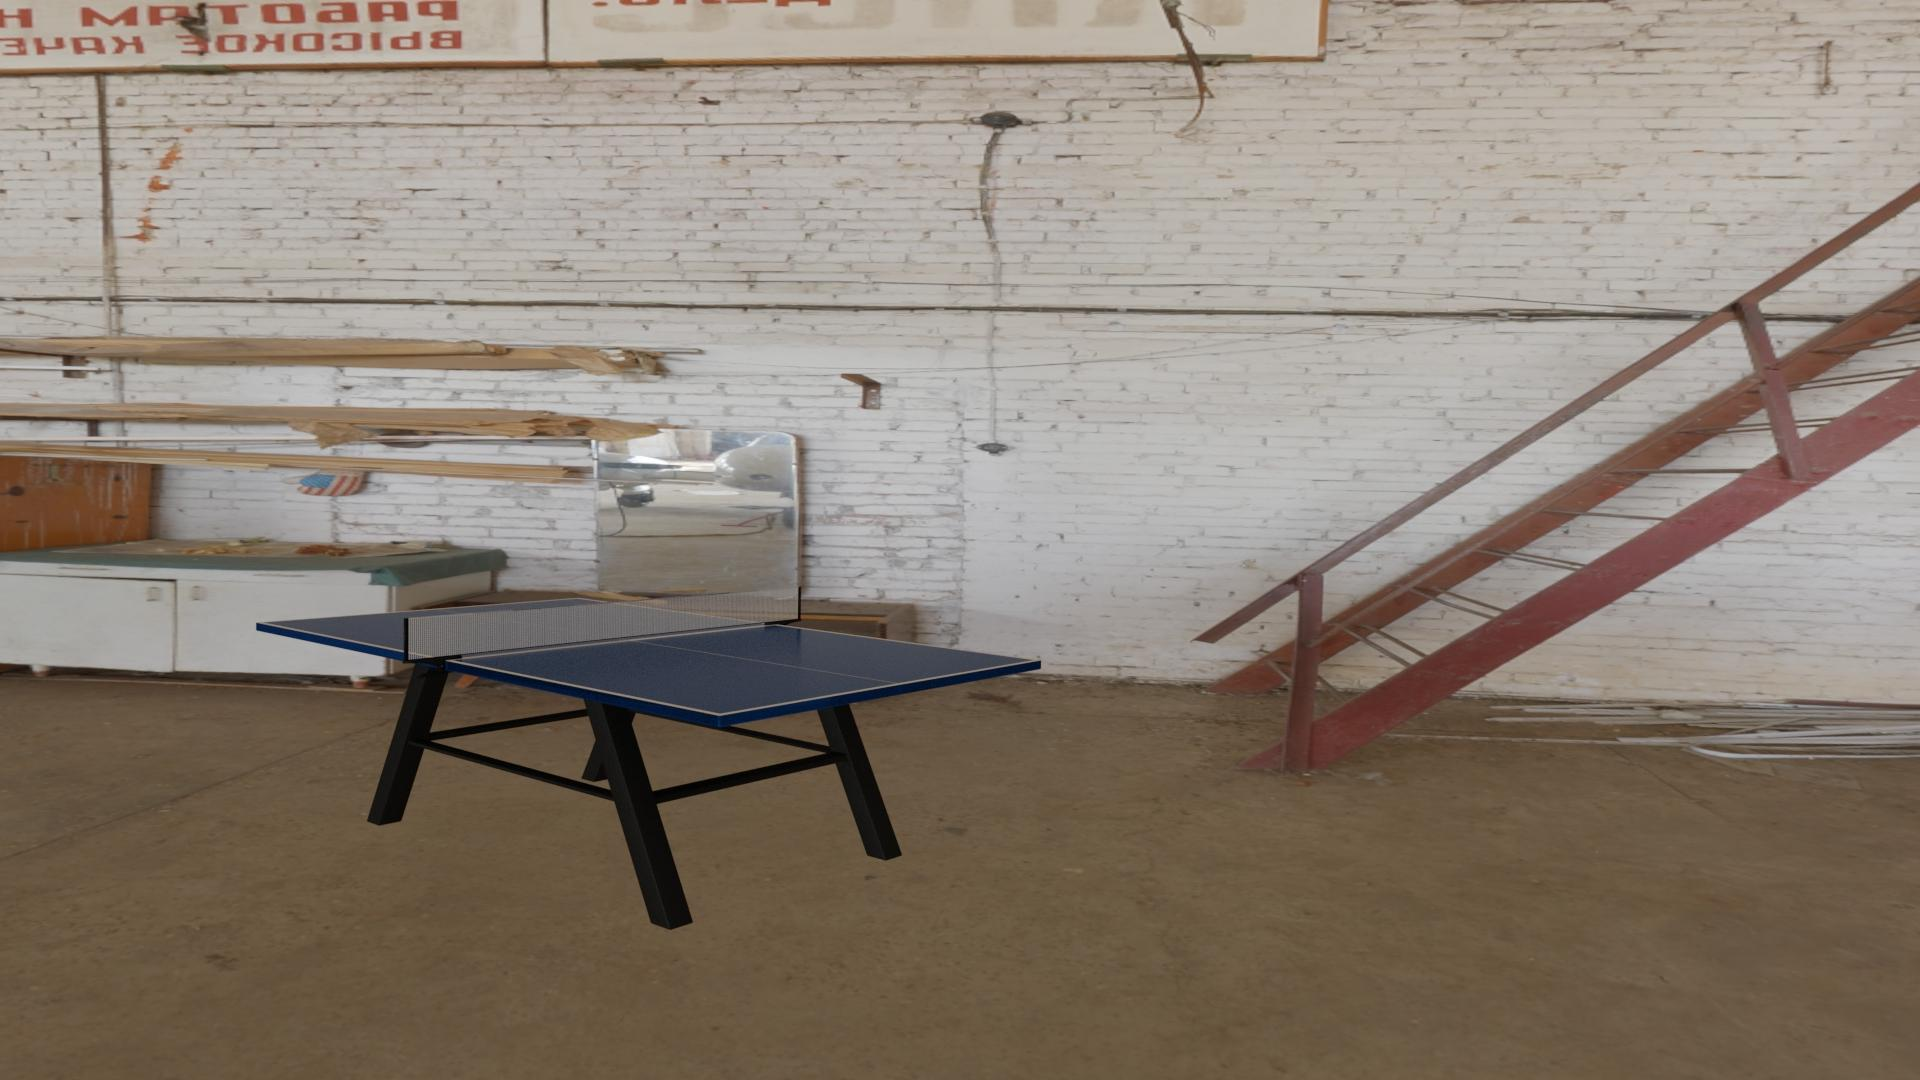table: (262, 599, 1034, 713)
